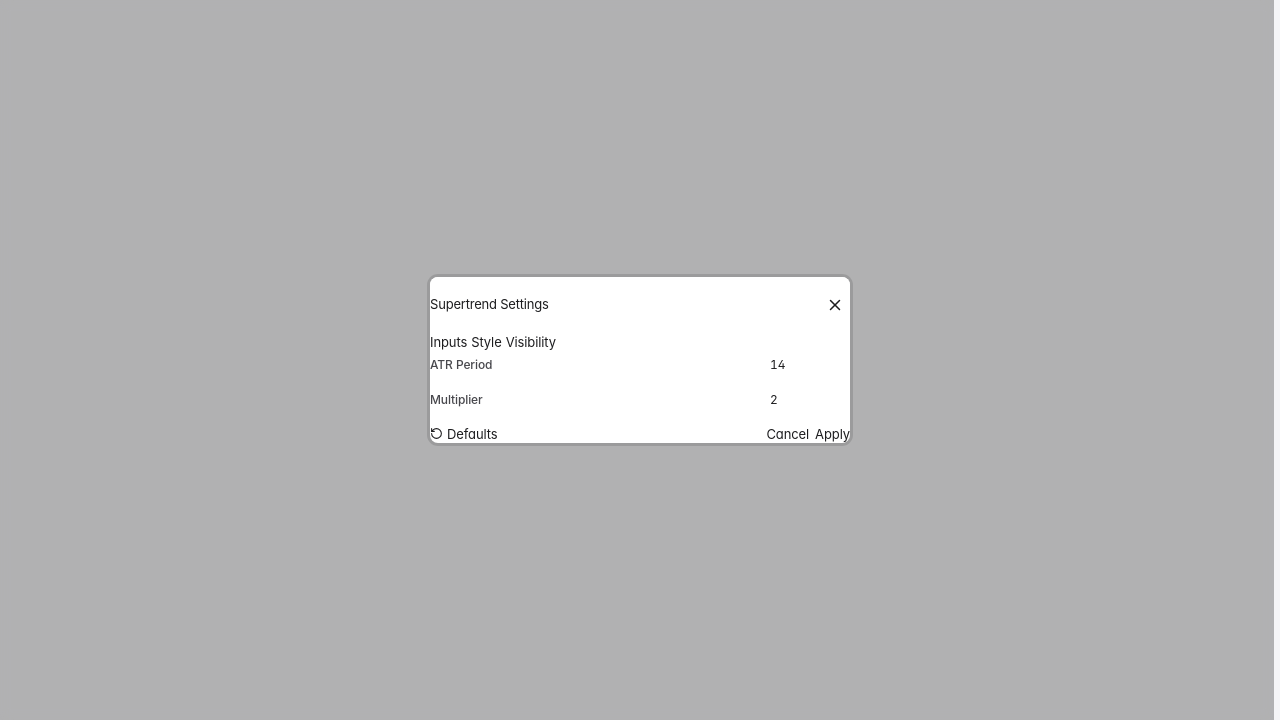
it: renders Supertrend inputs and allows resetting to defaults
The image size is (1280, 720).
expect the number field labelled "ATR Period" holds "14": met, box [770,352,850,378]
expect the number field labelled "Multiplier" holds "2": met, box [770,386,850,412]
Note: Click Defaults
Click the button "Defaults".
click(464, 434)  # box [430,424,498,443]
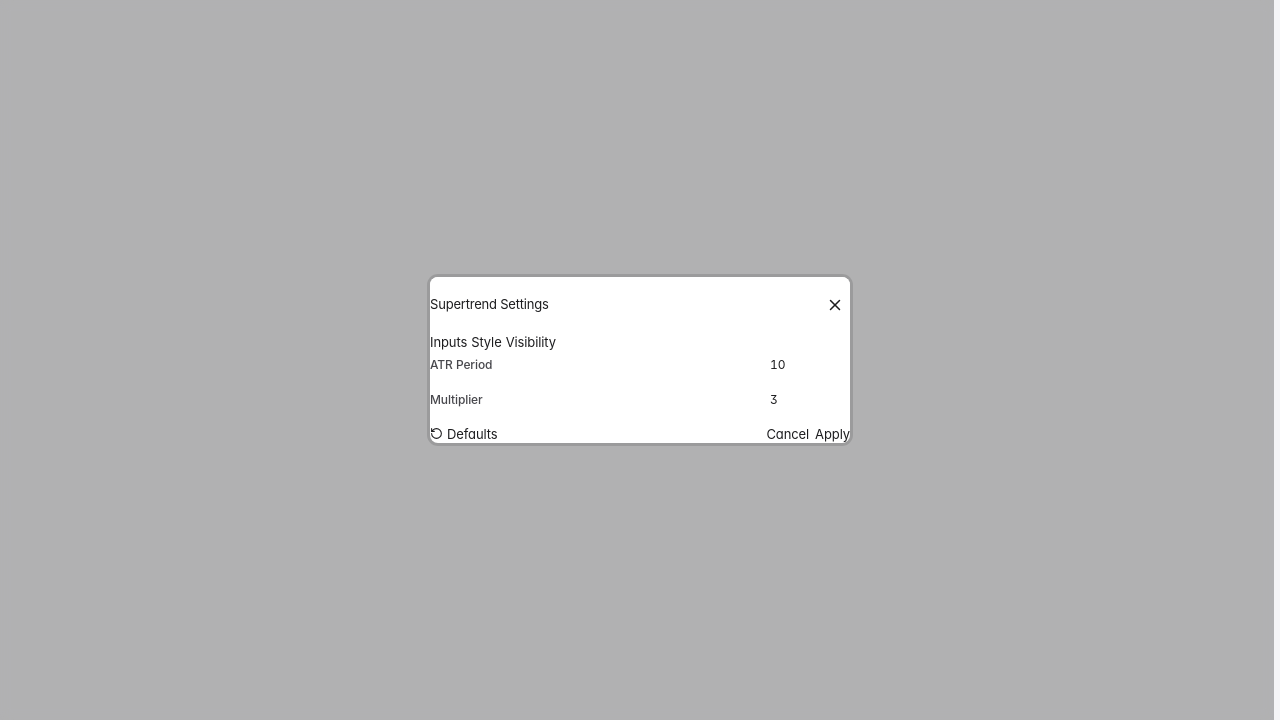
expect the number field labelled "ATR Period" holds "10": met, box [770,352,850,378]
expect the number field labelled "Multiplier" holds "3": met, box [770,386,850,412]
